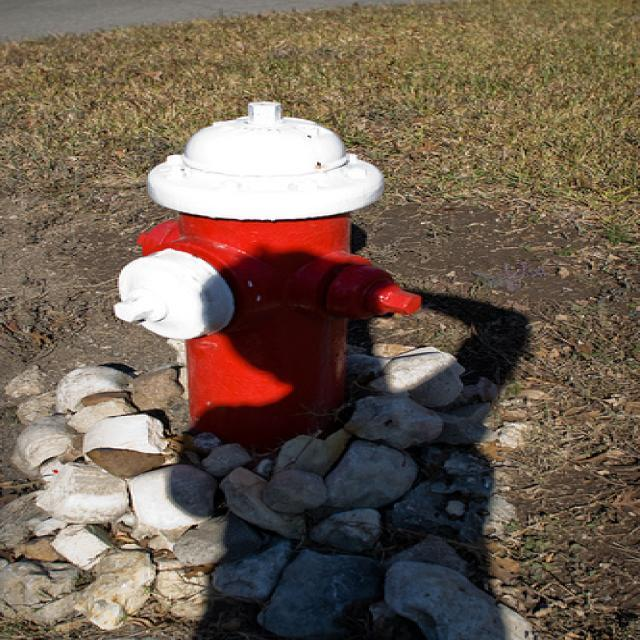fire_hydrant: (104, 90, 416, 460)
